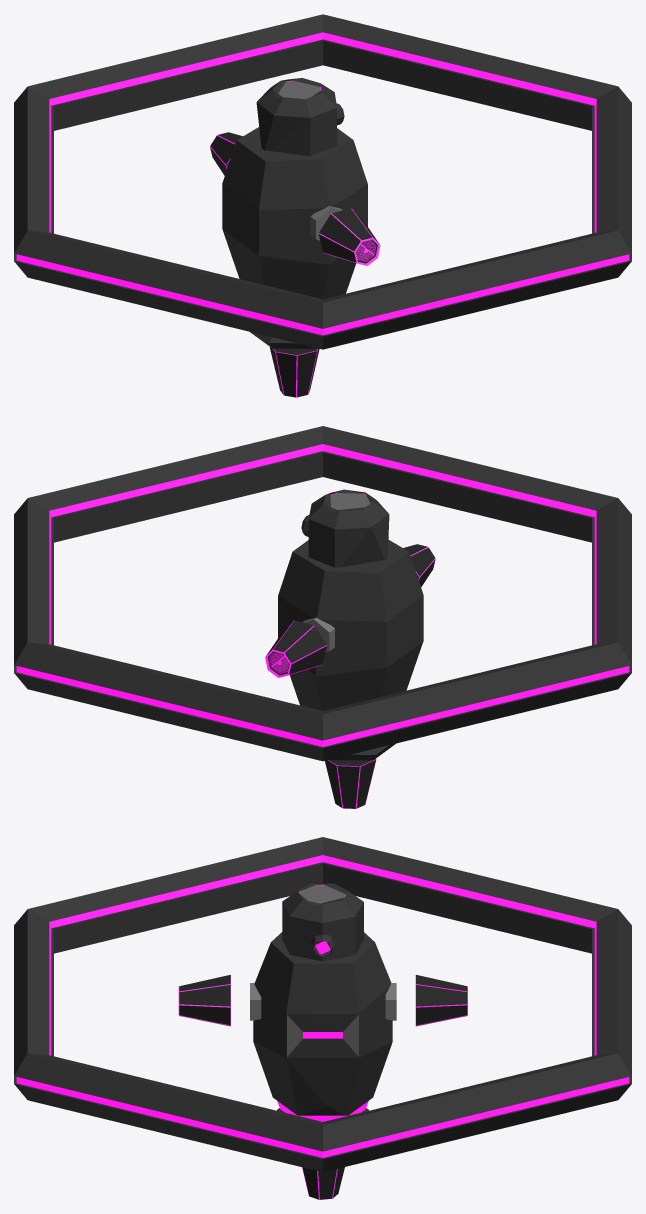
Rendered from Robot2.fbx.
3 views of the same model, one above another, from view 1: azimuth 30°, elevation 25°; view 2: azimuth 150°, elevation 25°; view 3: azimuth 270°, elevation 25° (orthographic).
Visible parts, largest first — view 1: Torus, Cylinder, Cylinder.003, Cylinder.006, Cylinder.002, Cylinder.007, Cylinder.001; view 2: Torus, Cylinder, Cylinder.003, Cylinder.007, Cylinder.002, Cylinder.008, Cylinder.006; view 3: Torus, Cylinder, Cylinder.003, Cylinder.006, Cylinder.007, Cylinder.002.
Part boxes in pixels (left/top/right/bottom): Torus: left=14, top=14, right=631, bottom=349; Cylinder: left=222, top=127, right=367, bottom=348; Cylinder.003: left=256, top=78, right=337, bottom=155; Cylinder.006: left=318, top=208, right=379, bottom=263; Cylinder.002: left=269, top=347, right=319, bottom=397; Cylinder.007: left=210, top=132, right=242, bottom=175; Cylinder.001: left=318, top=208, right=380, bottom=265; Torus: left=14, top=426, right=631, bottom=761; Cylinder: left=278, top=539, right=423, bottom=760; Cylinder.003: left=308, top=489, right=389, bottom=567; Cylinder.007: left=266, top=620, right=326, bottom=675; Cylinder.002: left=325, top=759, right=375, bottom=808; Cylinder.008: left=265, top=620, right=326, bottom=677; Cylinder.006: left=403, top=544, right=435, bottom=587; Torus: left=14, top=837, right=631, bottom=1172; Cylinder: left=253, top=932, right=392, bottom=1115; Cylinder.003: left=282, top=883, right=363, bottom=961; Cylinder.006: left=179, top=975, right=230, bottom=1026; Cylinder.007: left=416, top=975, right=467, bottom=1026; Cylinder.002: left=302, top=1167, right=344, bottom=1199.
Bounding box in the file's own units: 407 × 470 × 219.
